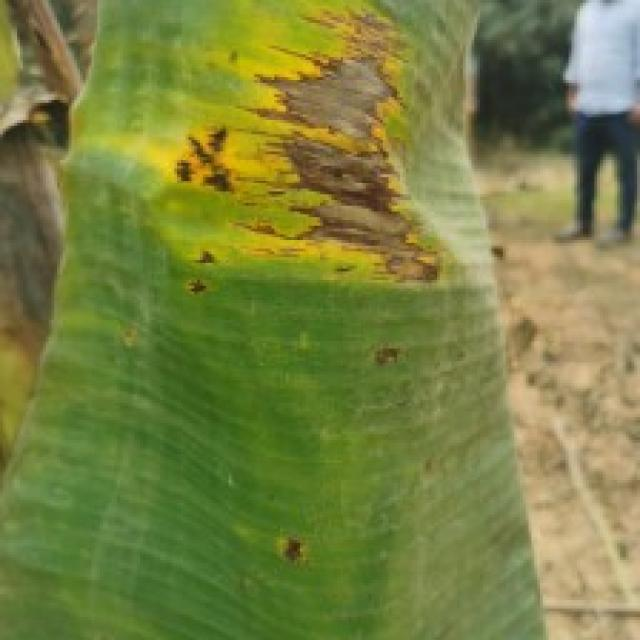Downey_mildrew: (106, 0, 523, 299), (230, 483, 334, 591), (341, 323, 418, 406)
